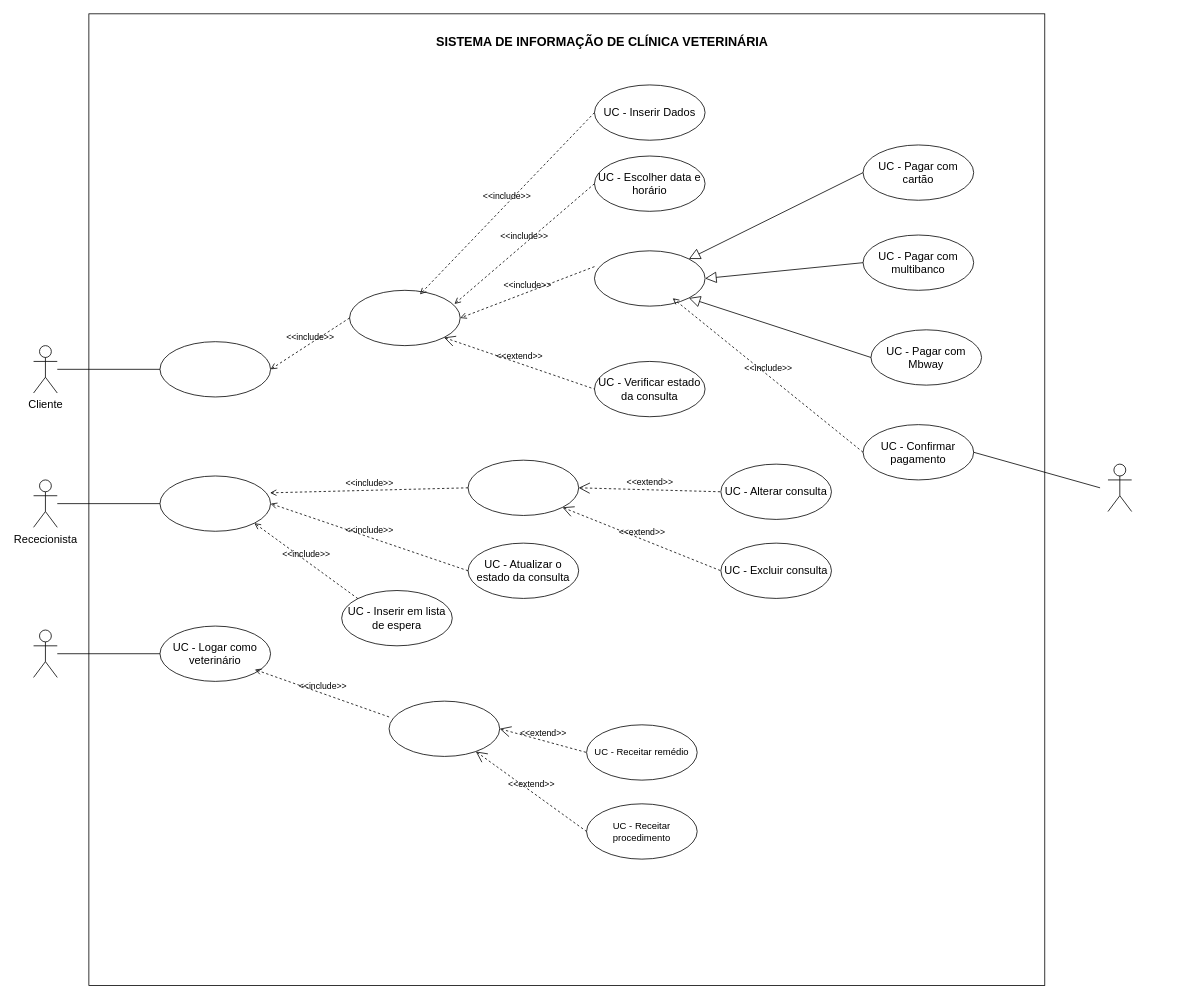
This 1190x999 diagram has some shape labels left out. The shapes that lost their labels are listed below. From the top down, each one's centre as x and y in pixels, then its label:
At pixel 649 278: "UC - Pagar consulta".
At pixel 404 318: "UC - Marcar consulta".
At pixel 215 369: "UC - Logar como cliente".
At pixel 215 503: "UC - Logar como Administrador".
At pixel 523 487: "UC - Validar consulta".
At pixel 1119 487: "Sistema de pagamento".
At pixel 45 653: "Veterinário".
At pixel 444 728: "UC - Realizar consulta".
